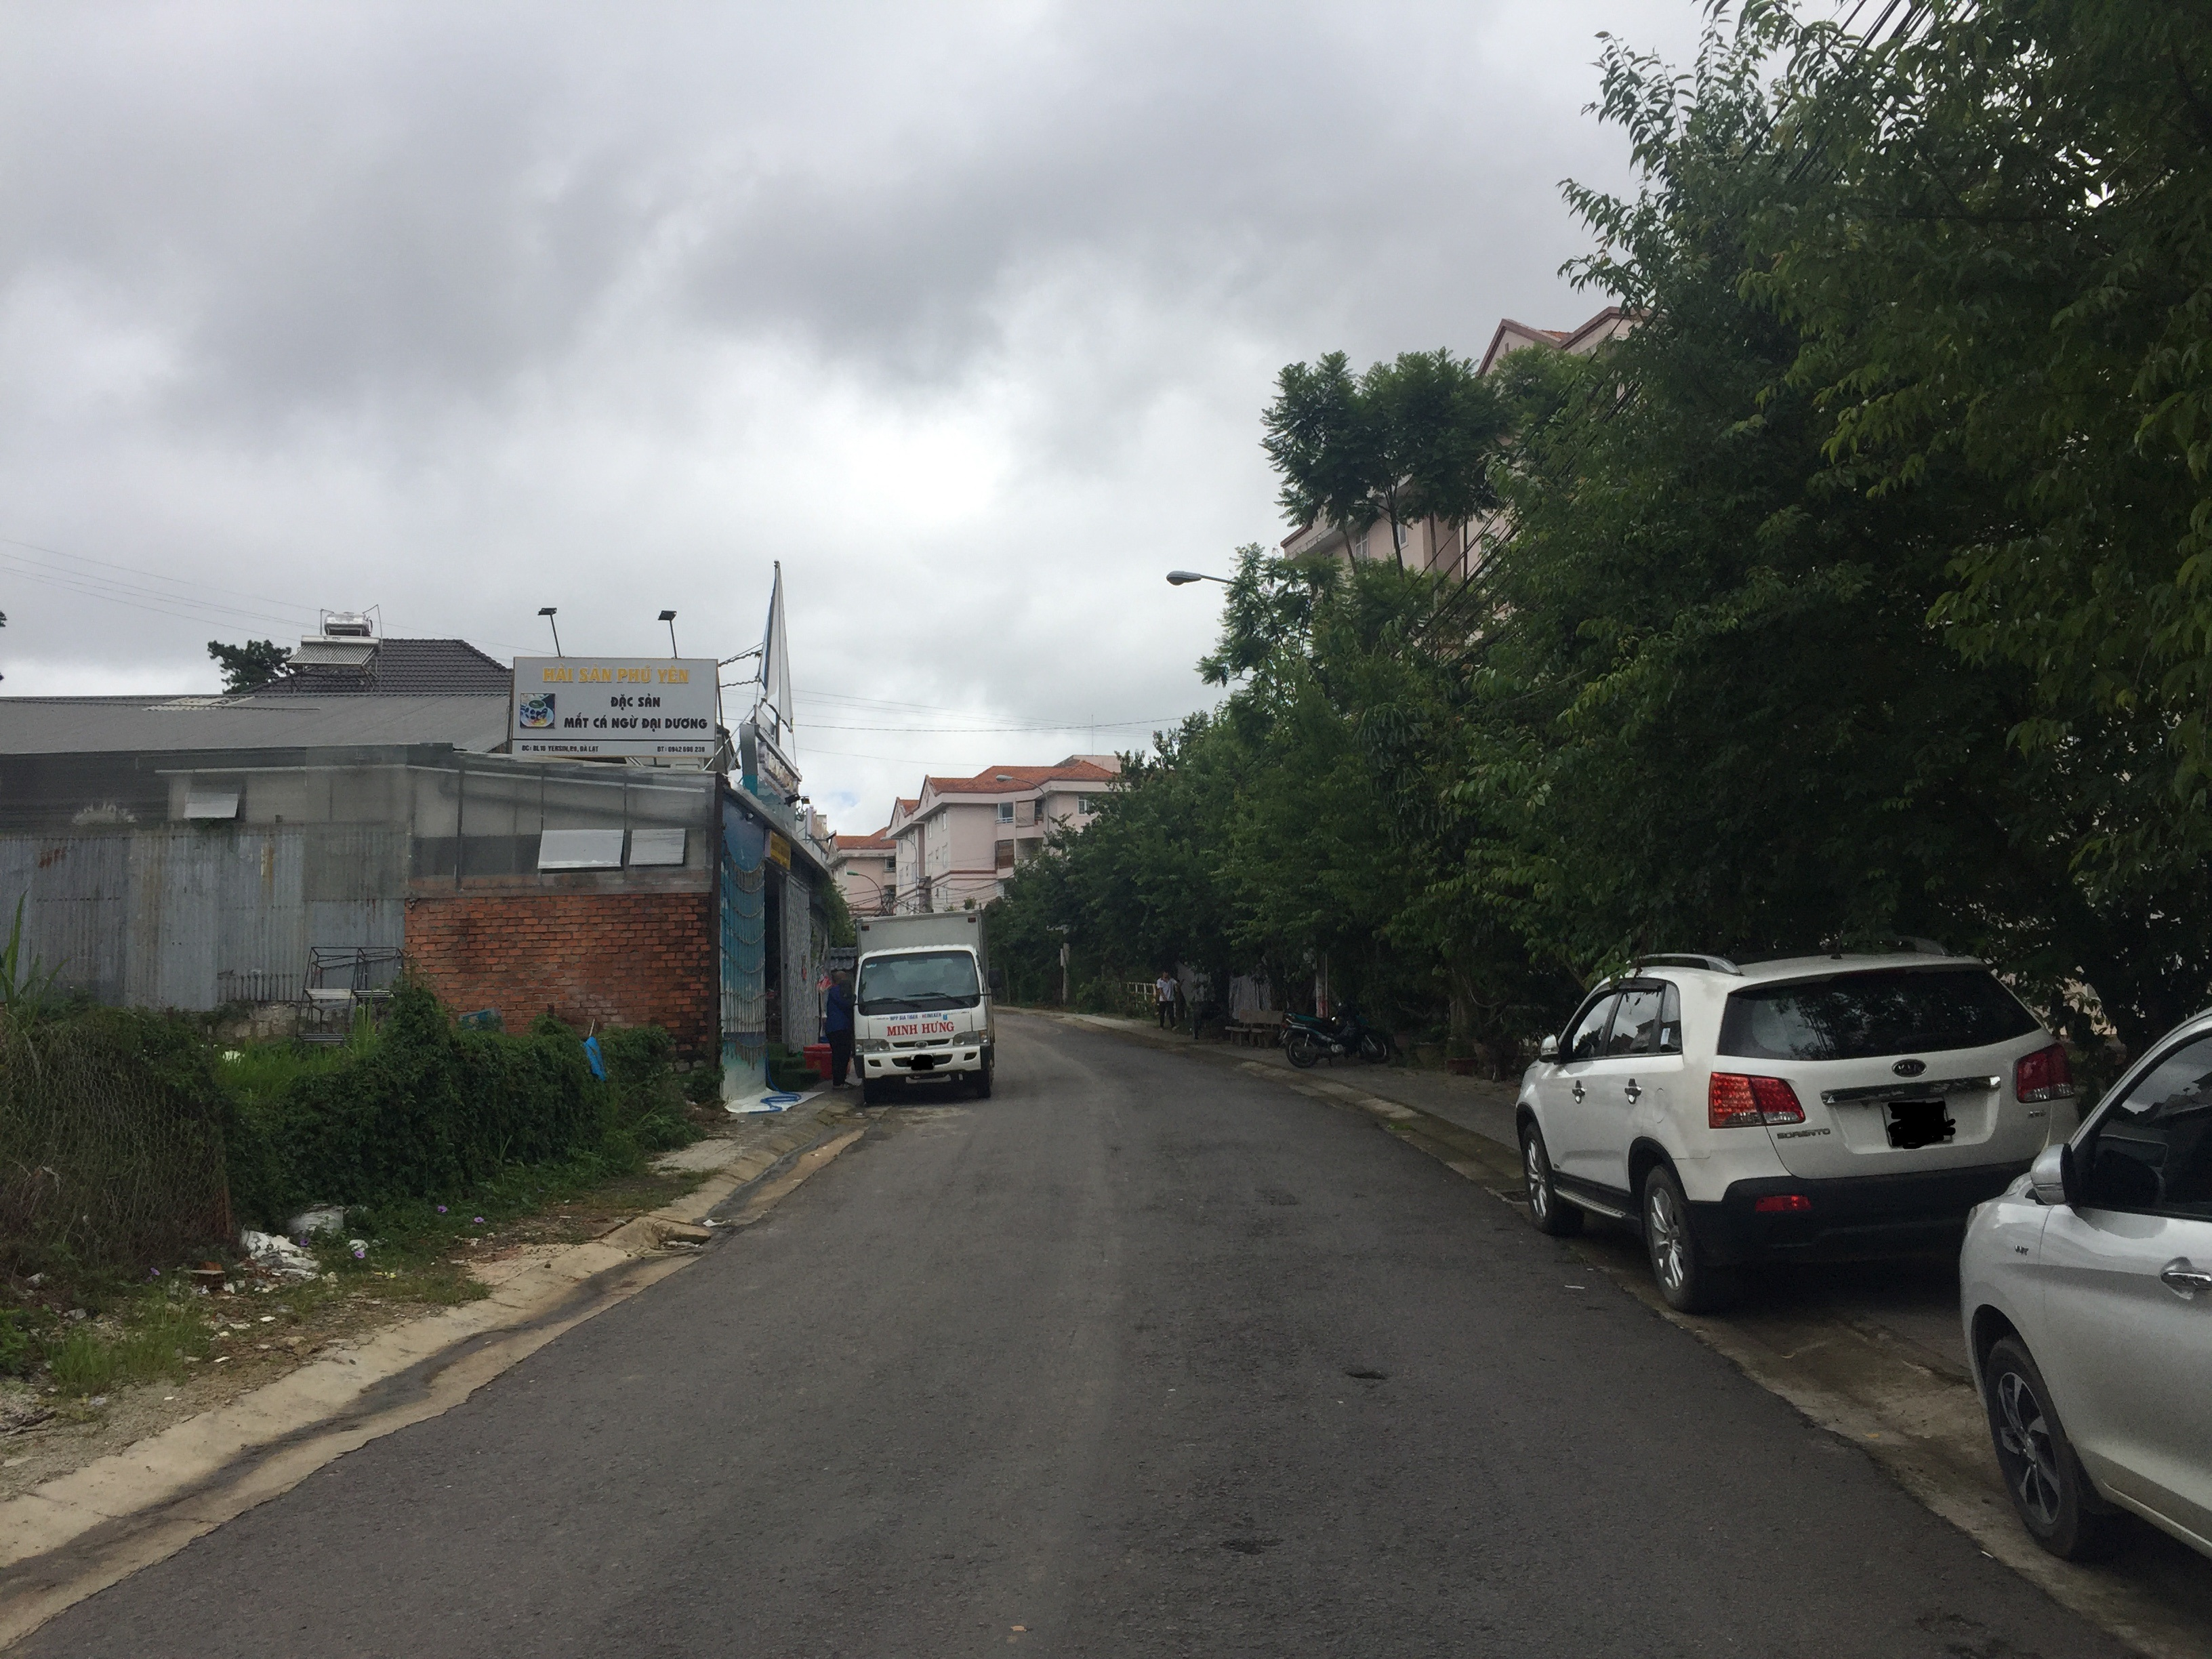hole: (1911, 1607, 2001, 1642), (1216, 1528, 1289, 1560), (1343, 1366, 1392, 1384)
